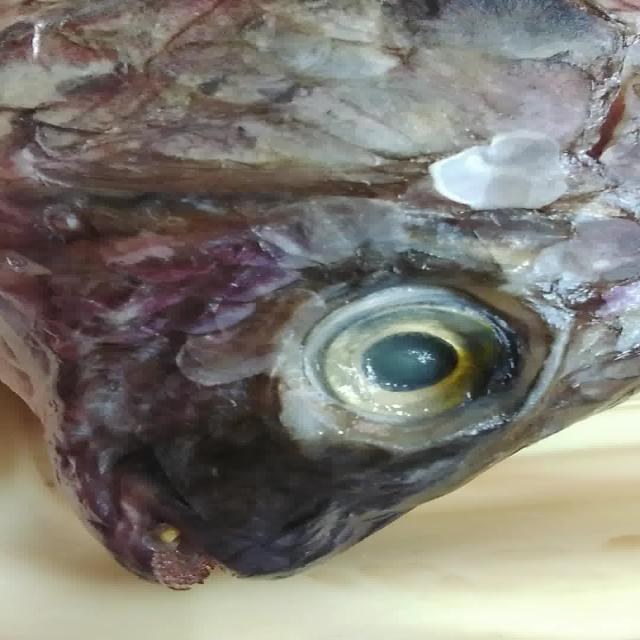Non-Fresh: (14, 8, 608, 262), (261, 282, 565, 448)
